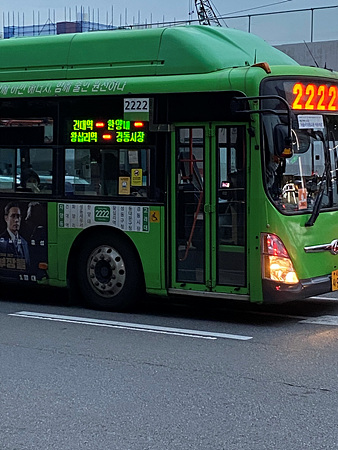entrance: (170, 116, 256, 301)
